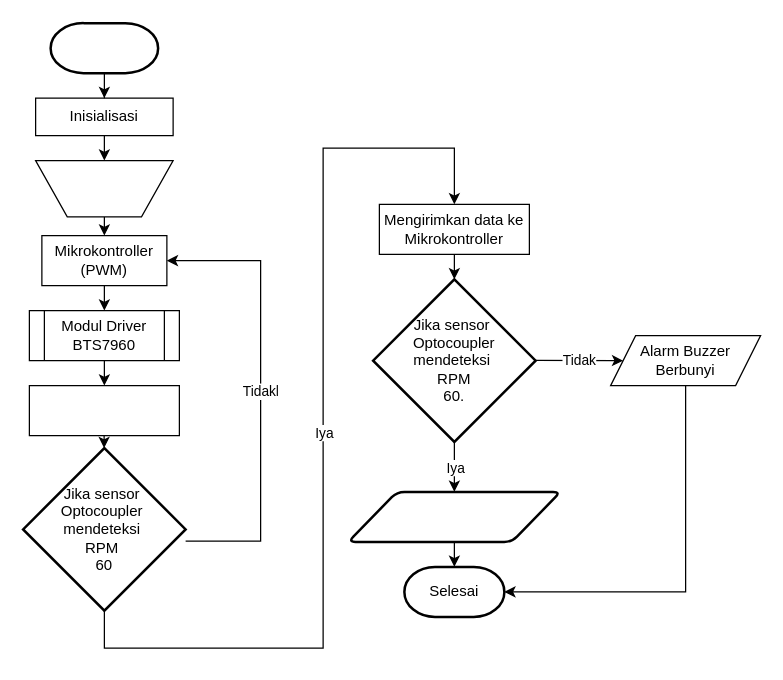
Some shapes in this 783 by 680 pixel diagram are drawn without their labels. The centre of each missing label's shape, as x and y in pixels:
LCD menampilan nilai "RPM": pixel 453 516
Mulai: pixel 104 47
Sensor Optocoupler Mendeteksi: pixel 103 410
Setting Kontrol RPM: pixel 103 188
